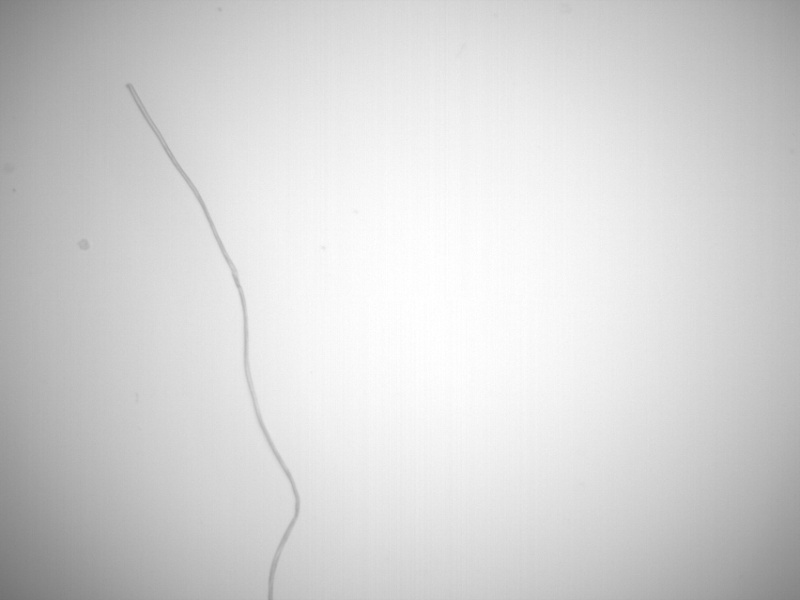fiber: (124, 81, 304, 600)
